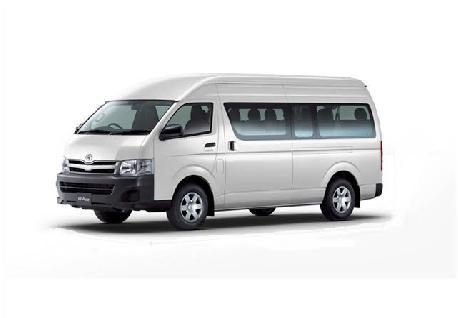van: (55, 72, 383, 230)
